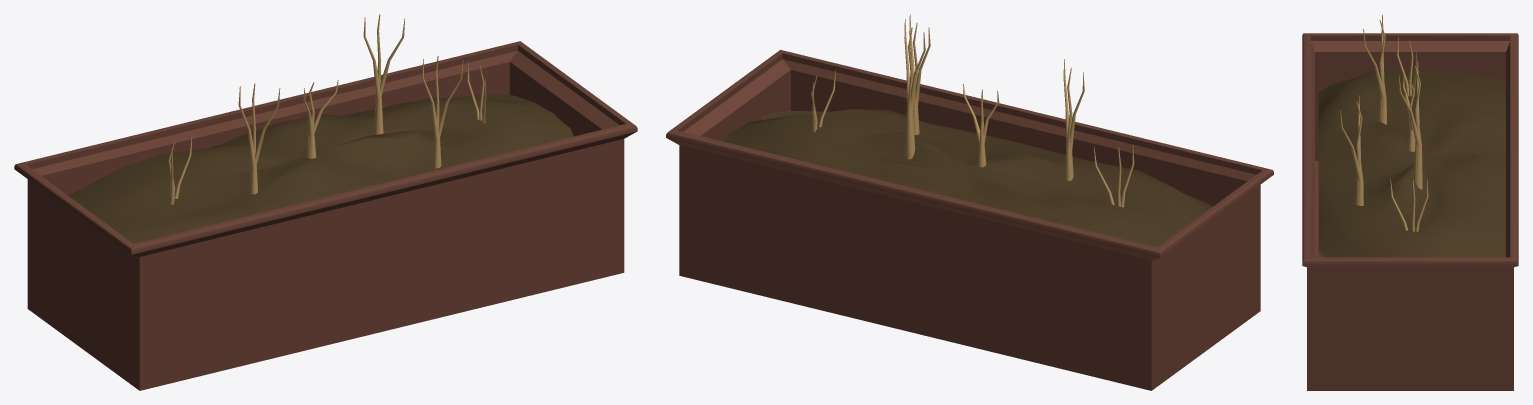
File: witherpot.fbx
The picture shows the model from 3 angles, left to right: view 1: azimuth 30°, elevation 25°; view 2: azimuth 150°, elevation 25°; view 3: azimuth 270°, elevation 25°; orthographic projection. The views are drawn at different scales.
Parts seen in each view (by area): view 1: polySurface3, polySurface7, pCylinder7, pCylinder8, pCylinder6, pCylinder4; view 2: polySurface3, polySurface7, pCylinder7, pCylinder6, pCylinder8, pCylinder4, pCylinder5; view 3: polySurface3, polySurface7, pCylinder7, pCylinder8, pCylinder6, pCylinder9, pCylinder5, pCylinder4.
Part boxes in pixels (x1,y1,x2,y2): polySurface3: [14, 41, 637, 390]; polySurface7: [68, 94, 573, 243]; pCylinder7: [363, 14, 404, 134]; pCylinder8: [422, 55, 463, 168]; pCylinder6: [238, 83, 280, 194]; pCylinder4: [303, 79, 338, 158]; polySurface3: [666, 50, 1273, 390]; polySurface7: [722, 109, 1212, 247]; pCylinder7: [904, 19, 925, 159]; pCylinder6: [1063, 59, 1084, 180]; pCylinder8: [909, 14, 930, 134]; pCylinder4: [963, 83, 999, 167]; pCylinder5: [1094, 145, 1134, 207]; polySurface3: [1302, 33, 1518, 390]; polySurface7: [1318, 69, 1505, 257]; pCylinder7: [1398, 60, 1422, 189]; pCylinder8: [1340, 95, 1363, 205]; pCylinder6: [1363, 14, 1386, 124]; pCylinder9: [1390, 178, 1428, 231]; pCylinder5: [1396, 37, 1417, 96]; pCylinder4: [1402, 75, 1415, 151].
Bounding box in the file's own units: 1.7 × 0.8358 × 0.6795.
